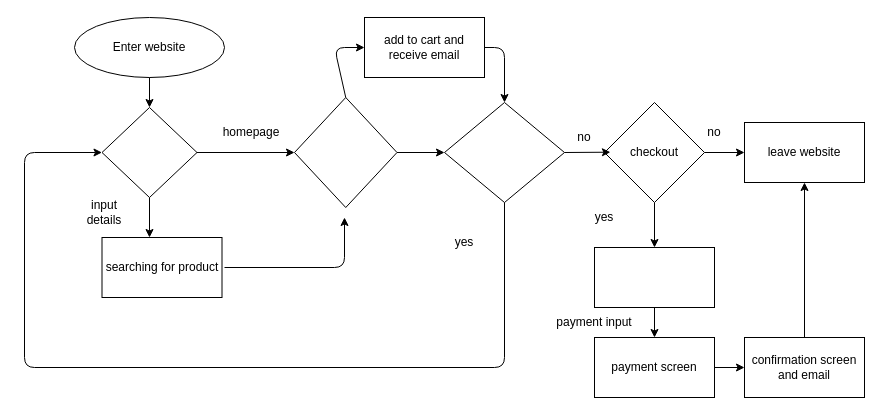
The diagram is 882 pixels wide and 415 high, and some of its shapes have lost their labels. Here are the shapes that lost their labels. From the top down, the centre of each, then its label:
At pixel 149 152: "check product".
At pixel 345 152: "view the product on its page".
At pixel 504 152: "continue shopping?".
At pixel 654 277: "view cart".
